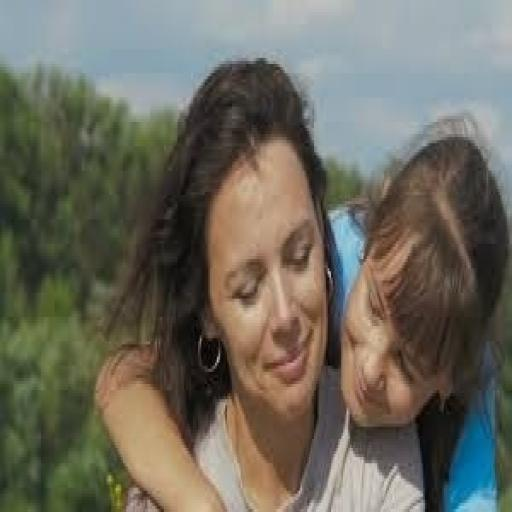hugging: (92, 52, 510, 509)
